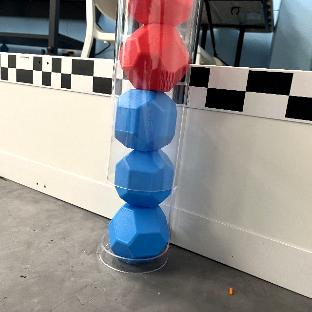Loader: (97, 0, 201, 273)
V5_BLUE: (115, 88, 176, 150), (109, 203, 169, 261), (115, 151, 173, 205)
V5_RED: (120, 23, 189, 92)
